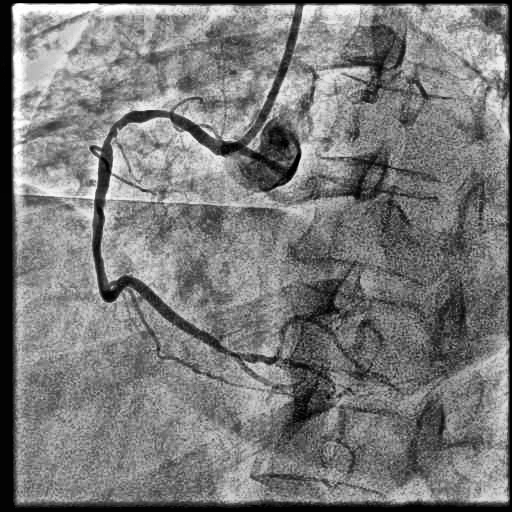pborca: (241, 314, 364, 372)
pda: (235, 358, 285, 390)
rca: (93, 110, 239, 358)
